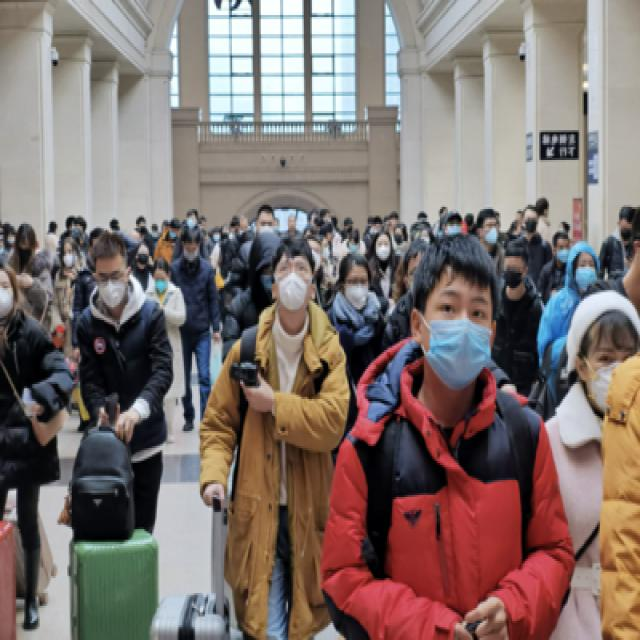mask: (424, 286, 491, 392), (589, 344, 635, 412), (275, 256, 312, 312), (98, 265, 128, 307), (346, 273, 370, 307), (576, 256, 598, 292), (504, 260, 526, 288), (2, 278, 15, 318), (483, 218, 499, 245), (558, 238, 572, 264), (259, 215, 275, 237), (156, 272, 170, 294), (64, 245, 77, 267), (19, 238, 32, 260), (184, 243, 200, 260), (376, 239, 390, 258), (138, 245, 150, 267), (524, 214, 538, 232), (450, 218, 462, 235), (322, 241, 332, 260), (349, 239, 360, 252), (187, 213, 197, 226), (170, 226, 178, 236), (8, 230, 14, 243), (214, 230, 220, 240)
